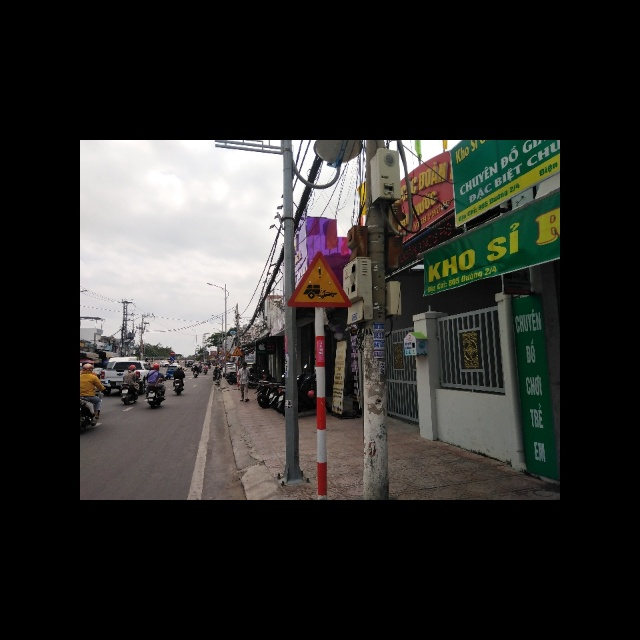Đoạn đường hay xảy ra tai nạn: (287, 250, 352, 308)
Đường đôi: (231, 345, 244, 357)
